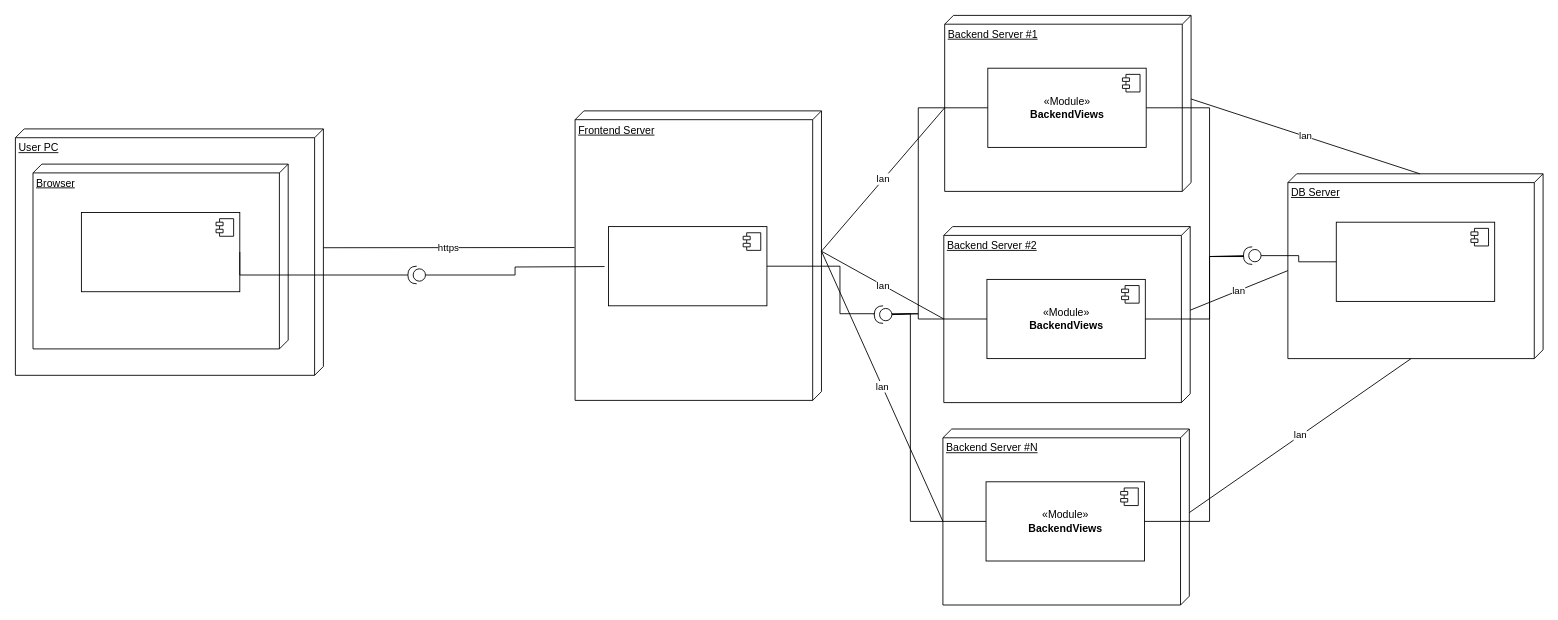
The diagram is 1558 pixels wide and 620 high, and some of its shapes have lost their labels. Here are the shapes that lost their labels. From the top down, the centre of each, then its label:
At [160,252]: "page.html".
At [687,266]: "«Module» Views".
At [1415,261]: "«executable» DB Server".
